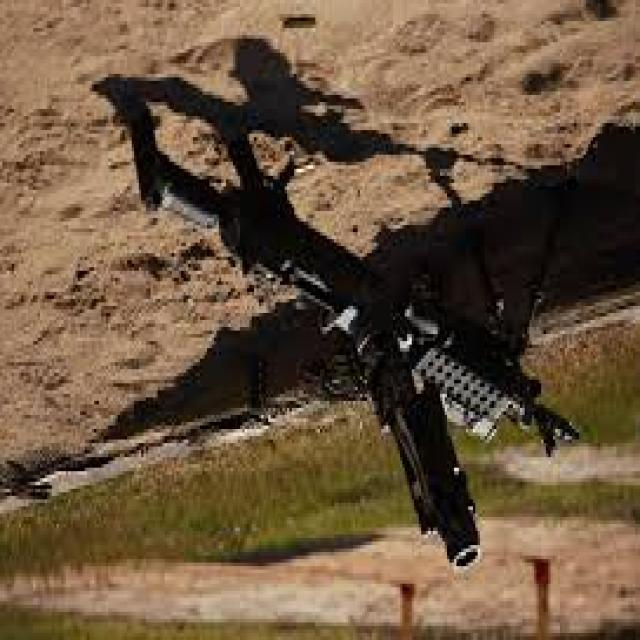Gun: (100, 67, 596, 560)
